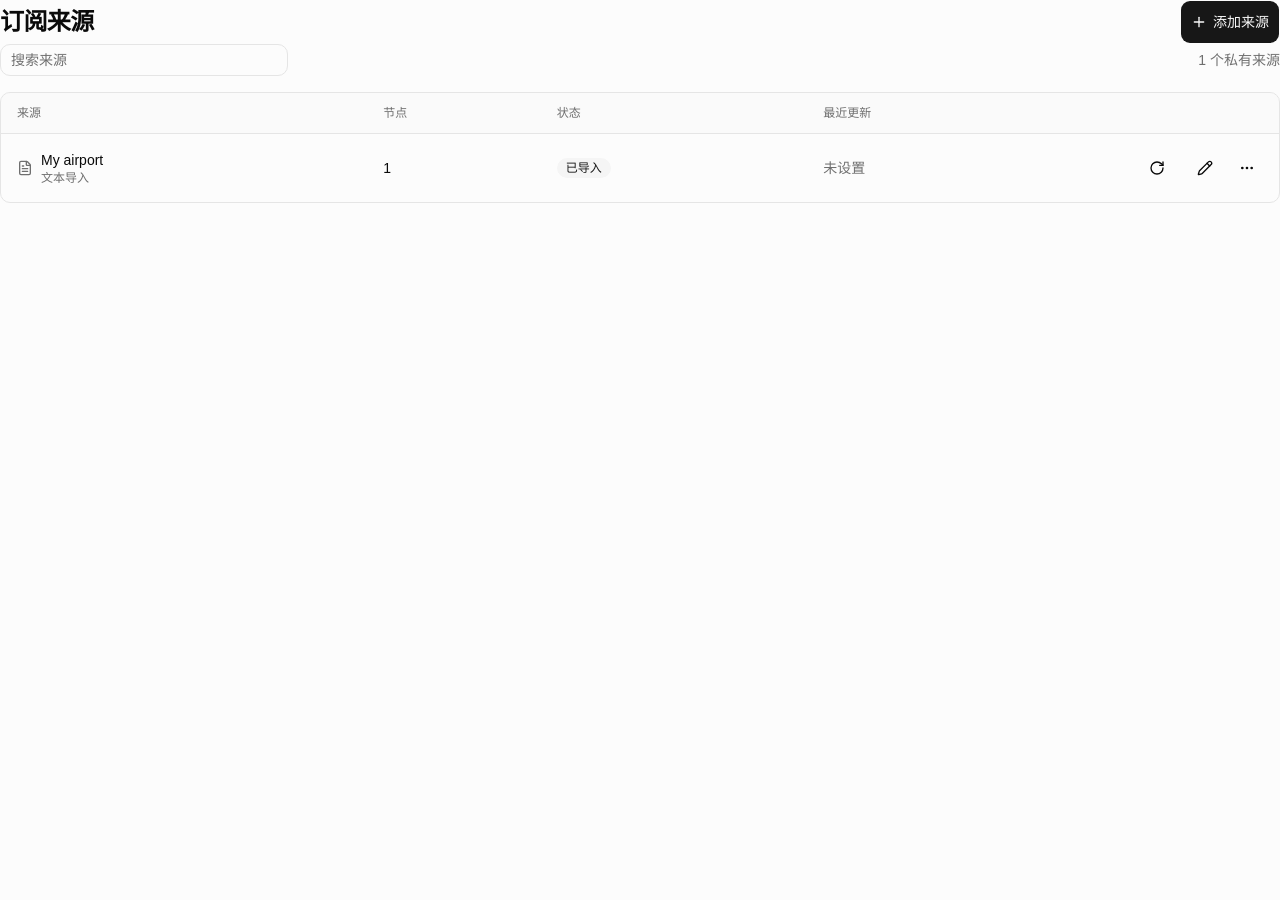
distinguishes removed and added same-name connections with safe address summaries
Click the button named "刷新 My airport" at (1157, 168), box [1135,146,1179,190]
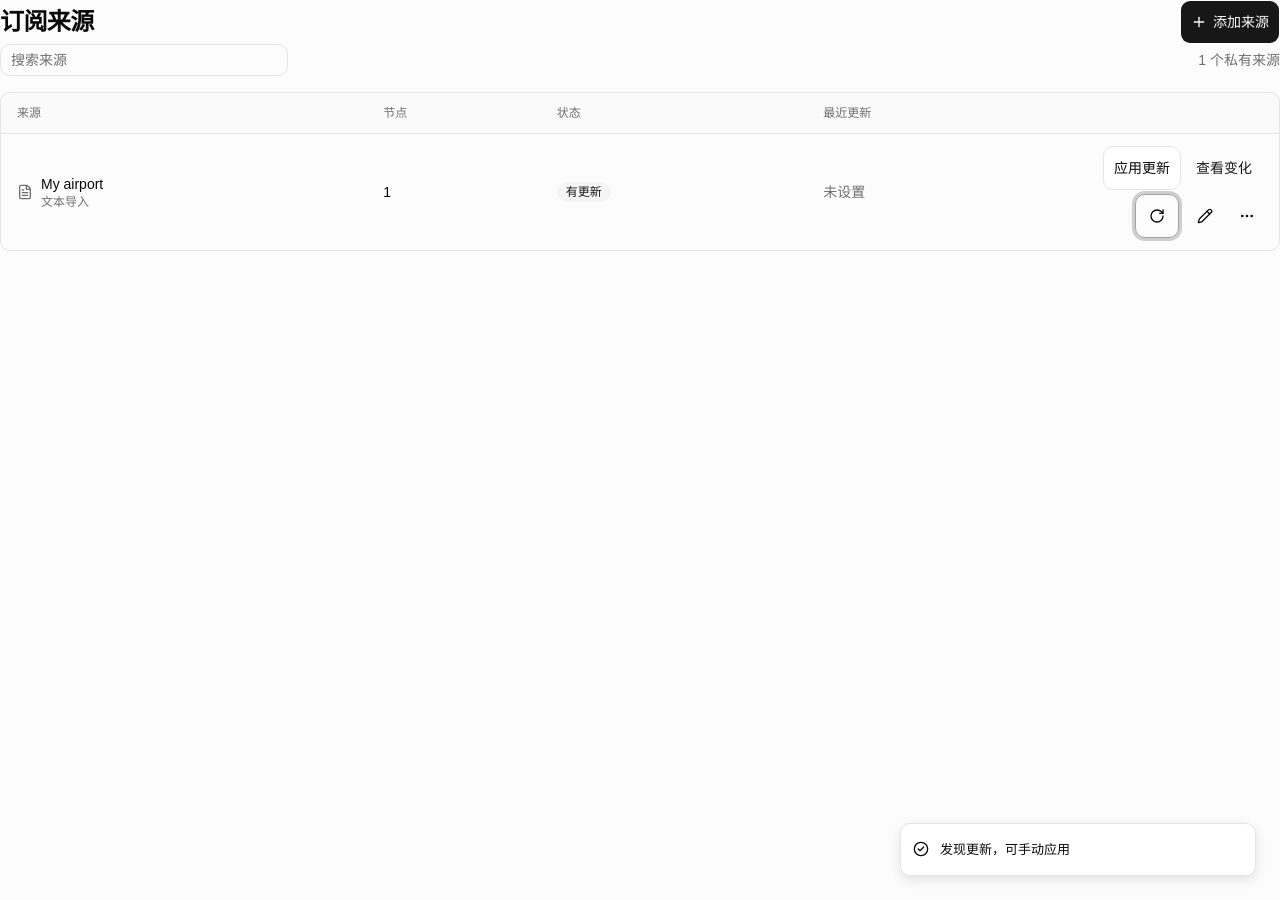
Click the button "查看变化" at (1224, 168), box [1185,146,1263,190]
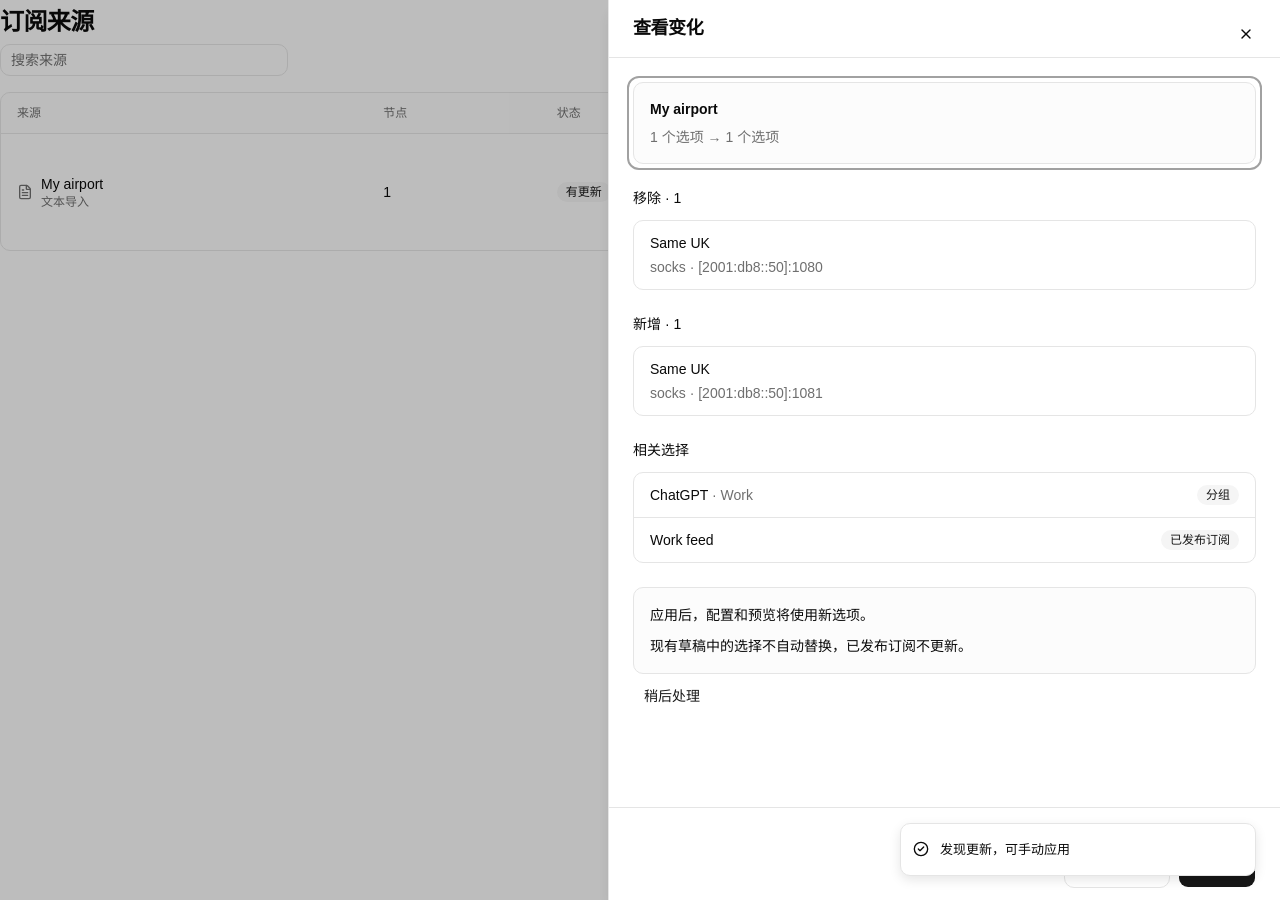
Check: the text "socks · [2001:db8::50]:1080" is shown, box [650,257,823,277]
Check: the text "socks · [2001:db8::50]:1081" is shown, box [650,383,823,403]
Check: the text "Same UK" is shown 2 times, box [650,235,710,251]; [650,361,710,377]
